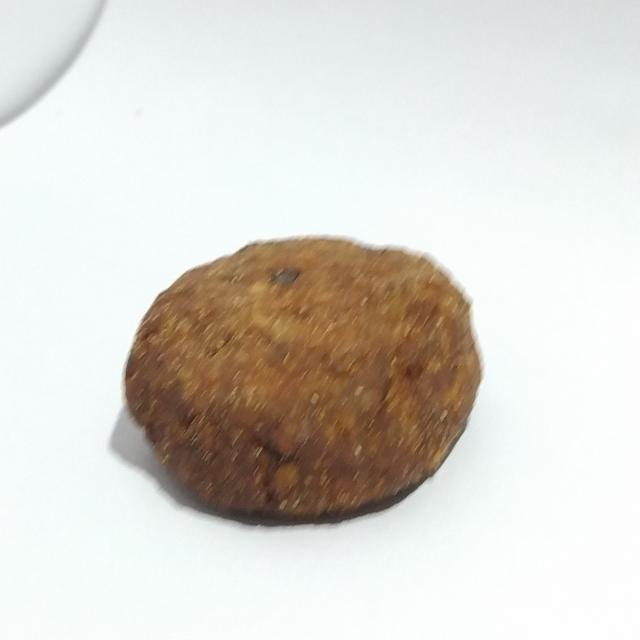Food: (110, 226, 490, 542)
